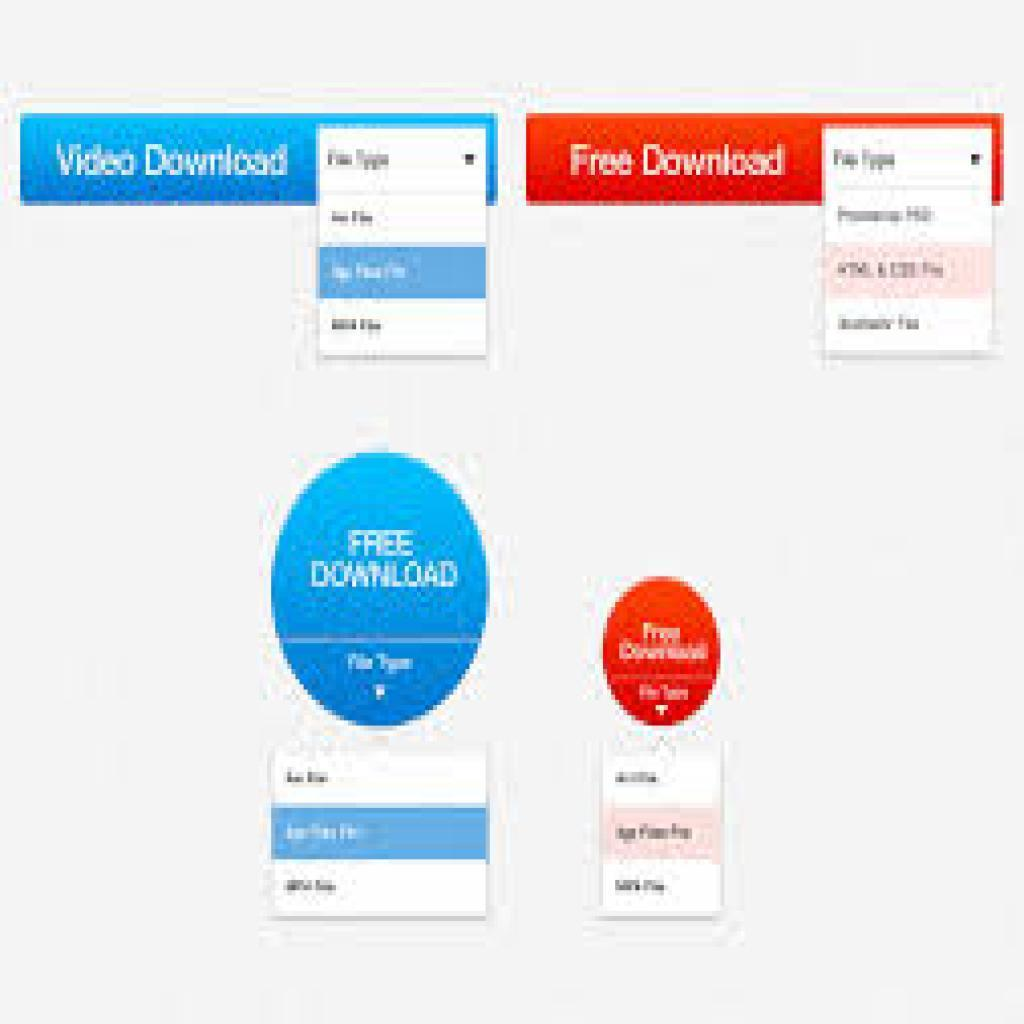button: (273, 809, 489, 861), (320, 246, 487, 301), (824, 246, 994, 299), (603, 807, 723, 860)
dropdown: (825, 129, 992, 193), (319, 126, 487, 188)
